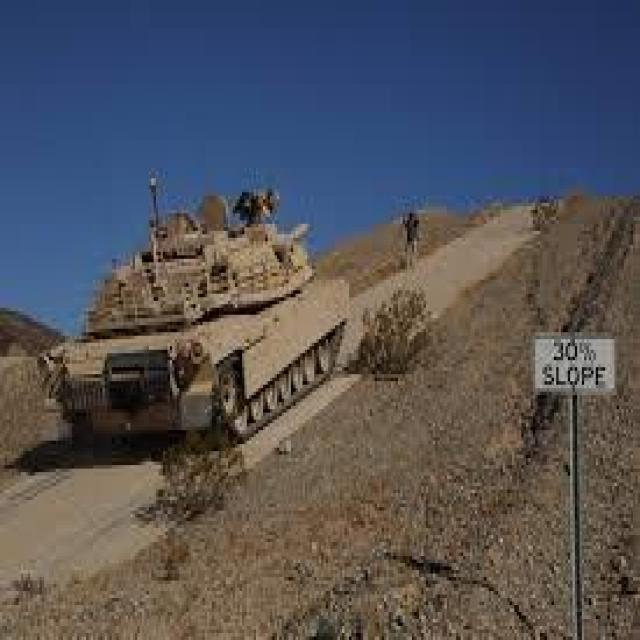Tanks: (21, 74, 377, 521)
